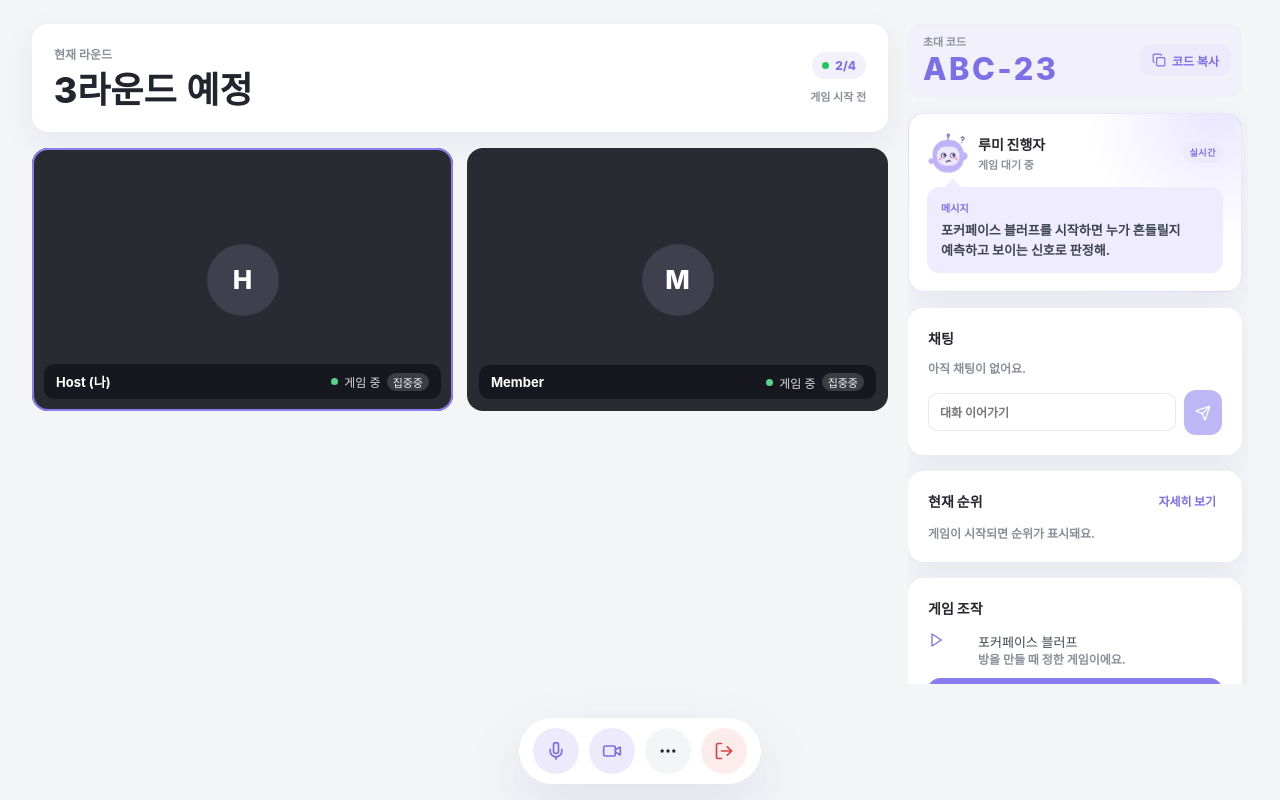
Test: StudyRoom hidden mission progress › shows every participant play style before a game starts
This screenshot has width=1280, height=800.
Expected: the heading "현재 순위" is shown, [928,490,983,510]
Step 1. Click the button "자세히 보기" → [1187, 500], box [1152,491,1222,510]
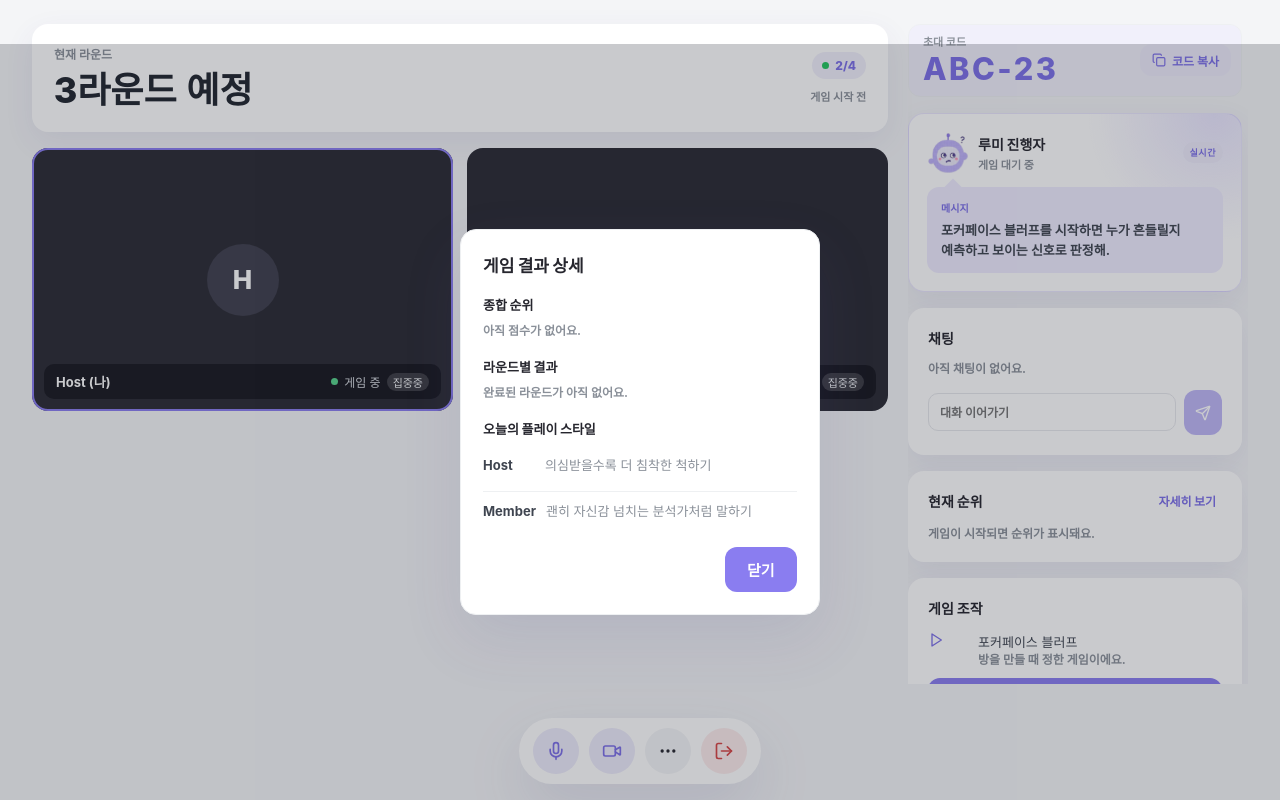
Expected: the heading "게임 결과 상세" is shown, [483,256,584,276]
Expected: the text "의심받을수록 더 침착한 척하기" is shown, [545,457,712,473]
Expected: the text "괜히 자신감 넘치는 분석가처럼 말하기" is shown, [546,501,787,520]
